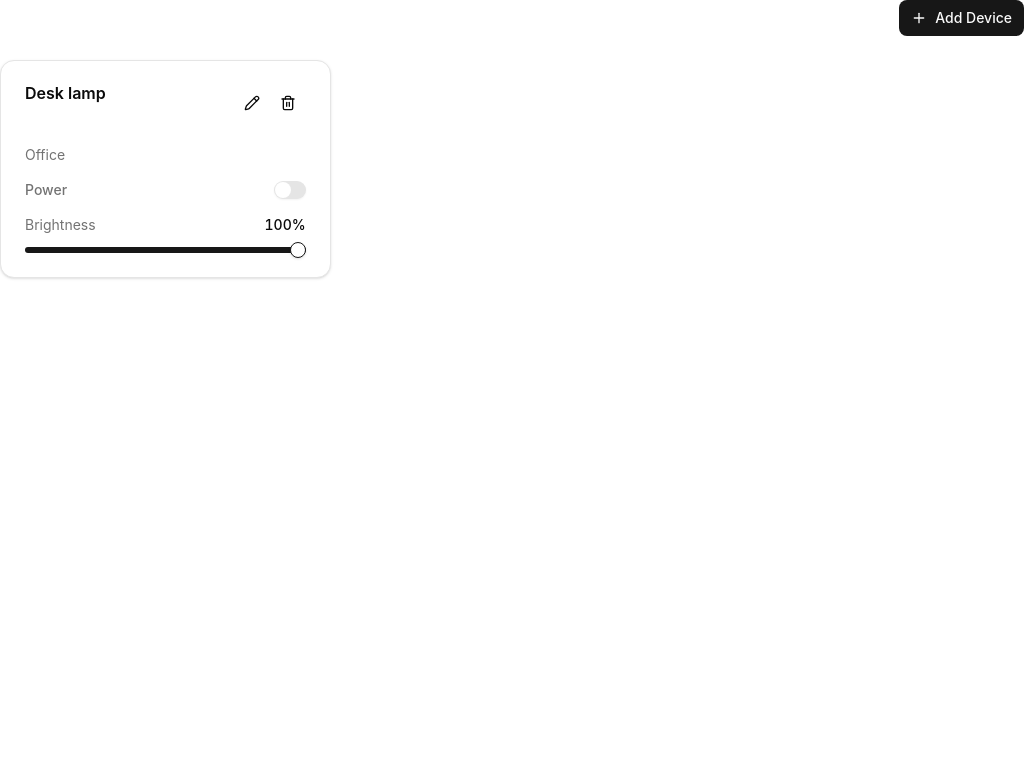
Test: device form workflows › edits existing values and shows server field rejection without closing
Click the button named "Edit Desk lamp".
click(252, 103)  # box [234,85,270,121]
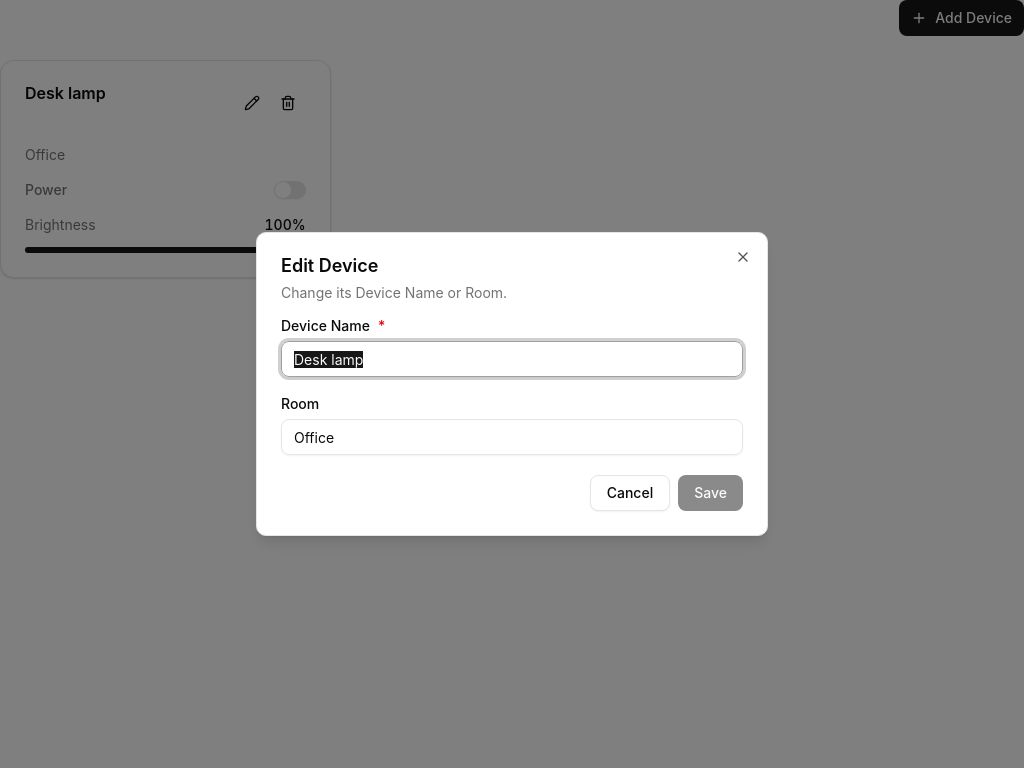
Expected: the field labelled "Device Name *" holds "Desk lamp"
Expected: the button "Save" is disabled, [678,475,743,511]
Clear the field labelled "Device Name *" at {"x": 512, "y": 359}, box [281,341,743,377]
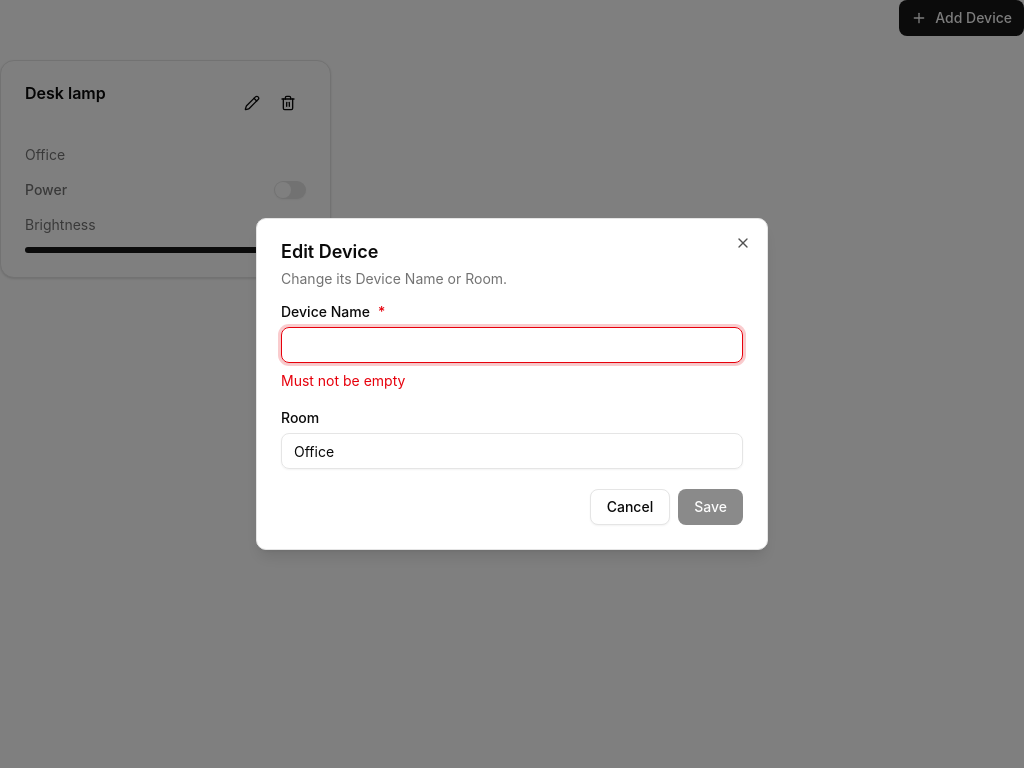
Type "Reading lamp" into the field labelled "Device Name *".
click(512, 345); type("Reading lamp")  # box [281,327,743,363]
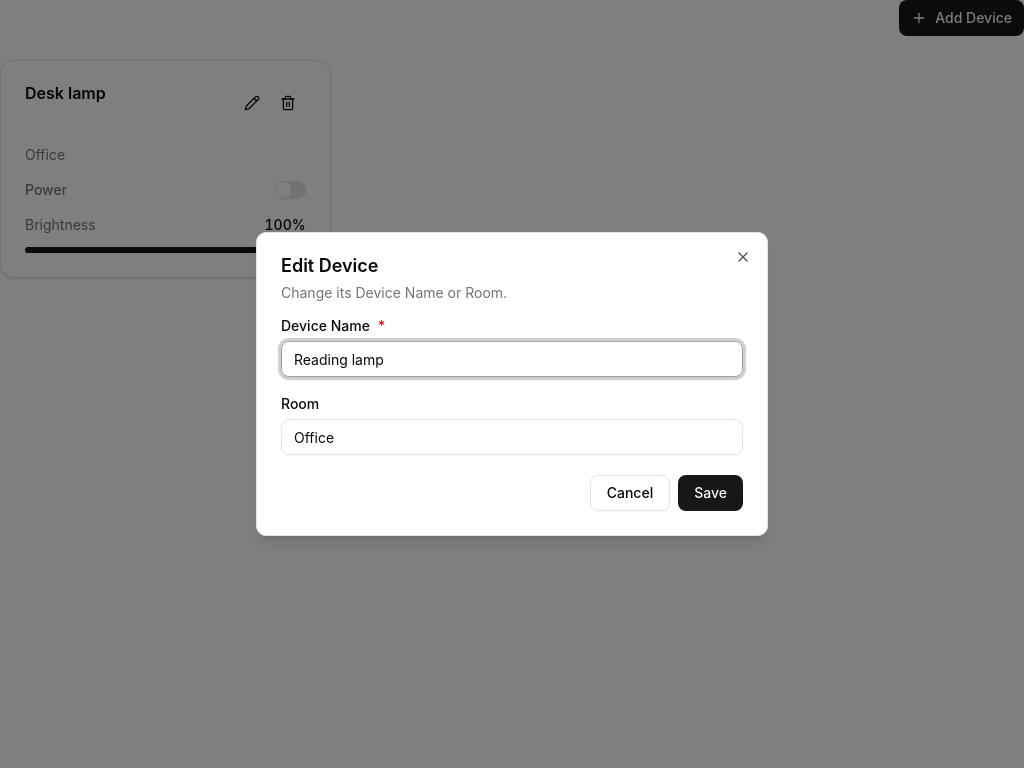
Click the button "Save".
click(711, 493)  # box [678,475,743,511]
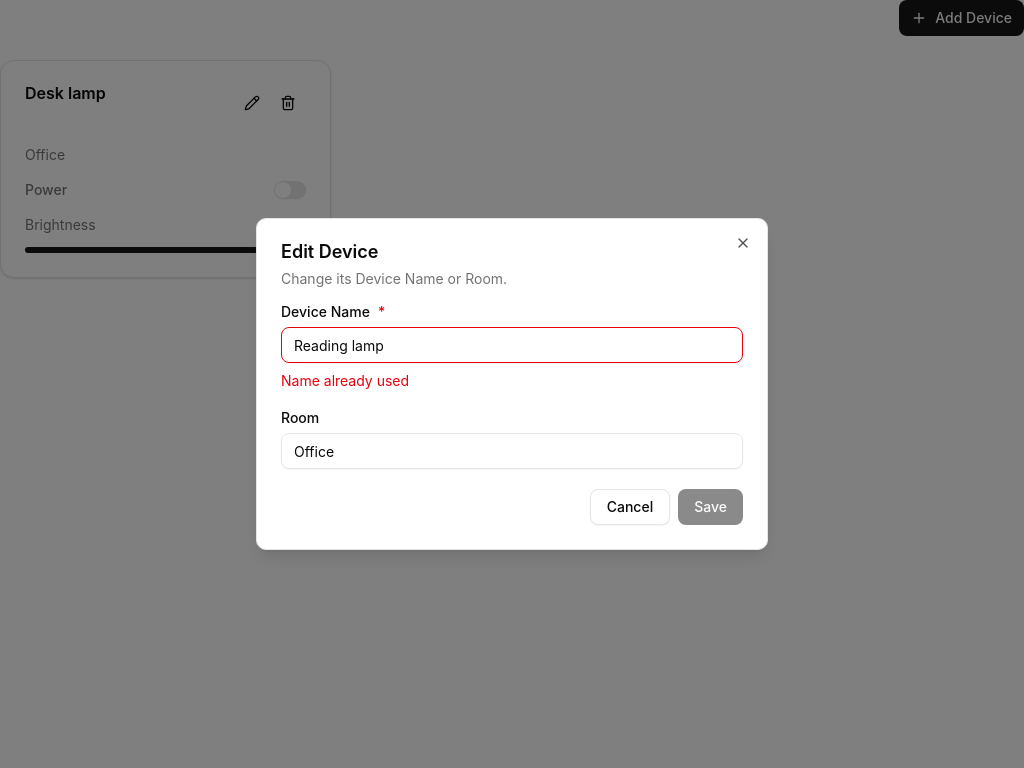
Expected: the text "Name already used" is shown, [281,372,409,389]
Replace the text in the field labelled "Device Name *" with "Bedside lamp" at {"x": 512, "y": 345}, box [281,327,743,363]
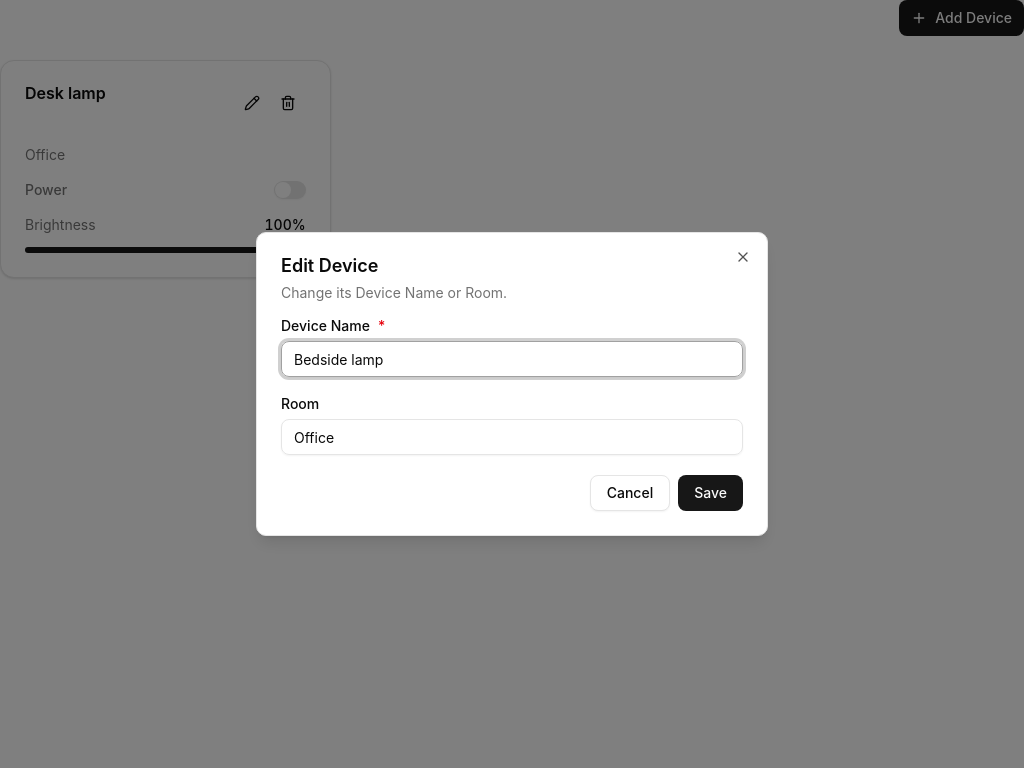
Click the button "Save".
click(711, 493)  # box [678,475,743,511]
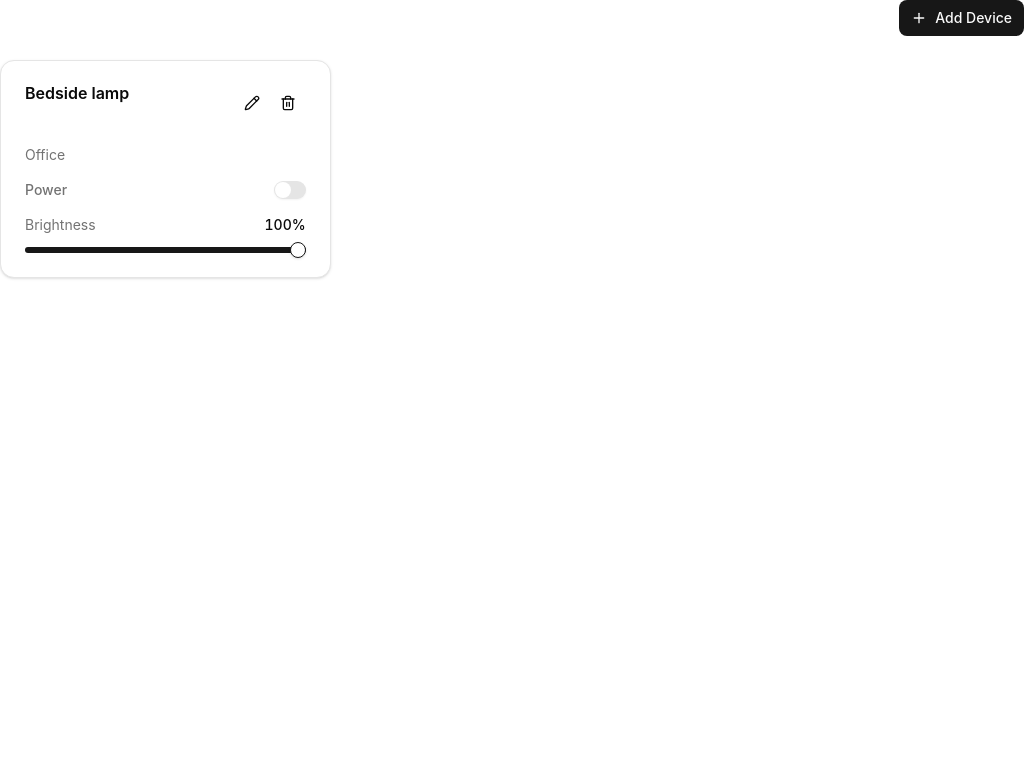
Expected: the dialog is gone
Expected: the heading "Bedside lamp" is shown, [25,83,129,103]
